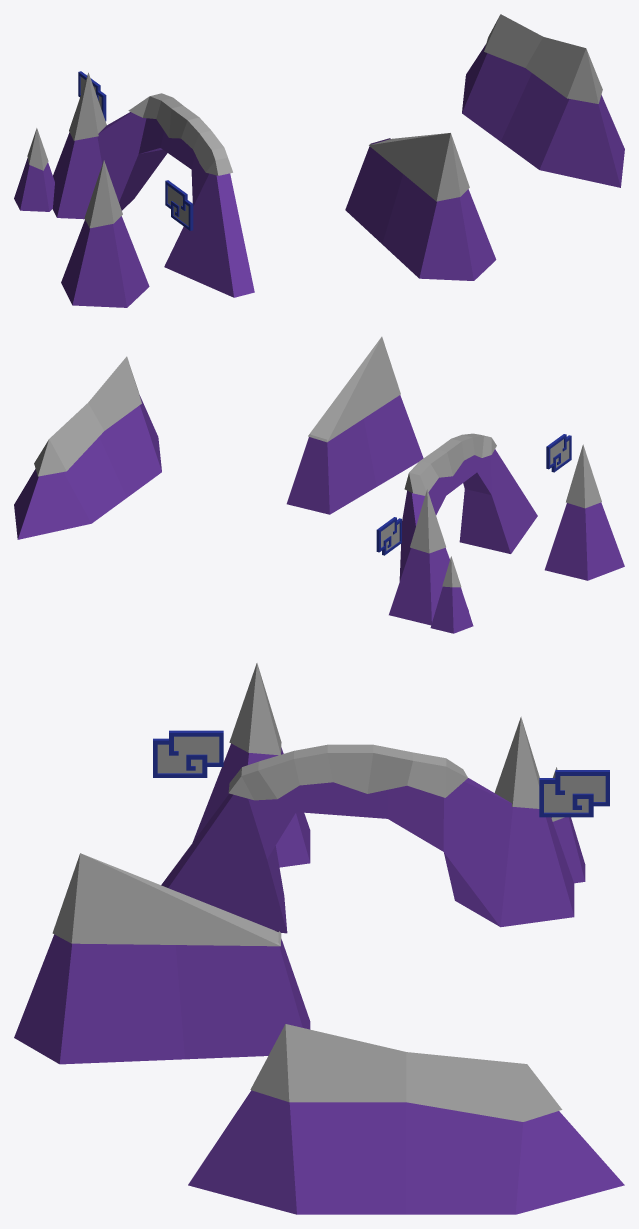
File: land.obj
The picture shows the model from 3 angles, top to bottom: view 1: azimuth 30°, elevation 25°; view 2: azimuth 150°, elevation 25°; view 3: azimuth 270°, elevation 25°; orthographic projection. The views are drawn at different scales.
Visible parts, largest first — view 1: Cone.006_Cone.005, Cylinder_Cylinder.001, Cone.008, Cone.005_Cone.004, Cylinder.001_Cylinder.002, Cone.004_Cone.007, Cone.002_Cone.000, Cone.003_Cone.013, Cone.007_Cone.006, Cone.000_Cone.001, Plane.001_Plane.002, Cone.001_Cone.002 (+1 smaller); view 2: Cone.006_Cone.005, Cylinder_Cylinder.001, Cone.008, Cylinder.001_Cylinder.002, Cone.005_Cone.004, Cone.004_Cone.007, Cone.002_Cone.000, Cone.003_Cone.013, Cone.000_Cone.001, Cone.007_Cone.006, Plane_Plane.001, Plane.001_Plane.002; view 3: Cylinder_Cylinder.001, Cone.006_Cone.005, Cone.008, Cylinder.001_Cylinder.002, Cone.004_Cone.007, Cone.002_Cone.000, Cone.005_Cone.004, Cone.007_Cone.006, Cone.000_Cone.001, Cube.001, Cube, Plane_Plane.001 (+2 smaller).
Part boxes in pixels (left/top/right/bottom): Cone.006_Cone.005: left=52, top=112, right=254, bottom=297; Cylinder_Cylinder.001: left=462, top=44, right=624, bottom=187; Cone.008: left=345, top=138, right=496, bottom=280; Cone.005_Cone.004: left=61, top=216, right=149, bottom=307; Cylinder.001_Cylinder.002: left=484, top=14, right=602, bottom=103; Cone.004_Cone.007: left=369, top=133, right=469, bottom=201; Cone.002_Cone.000: left=128, top=93, right=232, bottom=175; Cone.003_Cone.013: left=14, top=158, right=54, bottom=211; Cone.007_Cone.006: left=84, top=160, right=122, bottom=228; Cone.000_Cone.001: left=69, top=72, right=106, bottom=140; Plane.001_Plane.002: left=165, top=180, right=193, bottom=230; Cone.001_Cone.002: left=27, top=128, right=48, bottom=170; Cone.006_Cone.005: left=389, top=449, right=537, bottom=625; Cylinder_Cylinder.001: left=14, top=395, right=161, bottom=539; Cone.008: left=286, top=395, right=423, bottom=514; Cylinder.001_Cylinder.002: left=34, top=356, right=141, bottom=476; Cone.005_Cone.004: left=544, top=502, right=624, bottom=580; Cone.004_Cone.007: left=308, top=336, right=400, bottom=442; Cone.002_Cone.000: left=404, top=433, right=496, bottom=495; Cone.003_Cone.013: left=430, top=586, right=473, bottom=633; Cone.000_Cone.001: left=410, top=489, right=445, bottom=553; Cone.007_Cone.006: left=566, top=444, right=601, bottom=508; Plane_Plane.001: left=376, top=517, right=401, bottom=555; Plane.001_Plane.002: left=546, top=434, right=571, bottom=472; Cylinder_Cylinder.001: left=188, top=1090, right=624, bottom=1214; Cone.006_Cone.005: left=161, top=778, right=574, bottom=933; Cone.008: left=14, top=931, right=310, bottom=1064; Cylinder.001_Cylinder.002: left=250, top=1024, right=562, bottom=1121; Cone.004_Cone.007: left=52, top=853, right=281, bottom=946; Cone.002_Cone.000: left=228, top=744, right=467, bottom=800; Cone.005_Cone.004: left=192, top=743, right=310, bottom=867; Cone.007_Cone.006: left=229, top=663, right=281, bottom=755; Cone.000_Cone.001: left=494, top=716, right=539, bottom=808; Cube.001: left=157, top=736, right=219, bottom=773; Cube: left=544, top=776, right=605, bottom=812; Plane_Plane.001: left=539, top=770, right=609, bottom=817.
Bounding box in the file's own units: 26.45 × 5.94 × 17.28.
